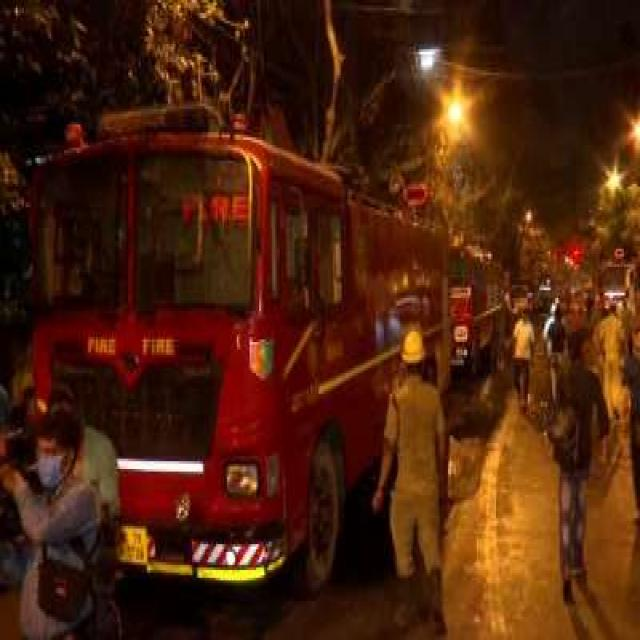emergency: (34, 107, 448, 581)
